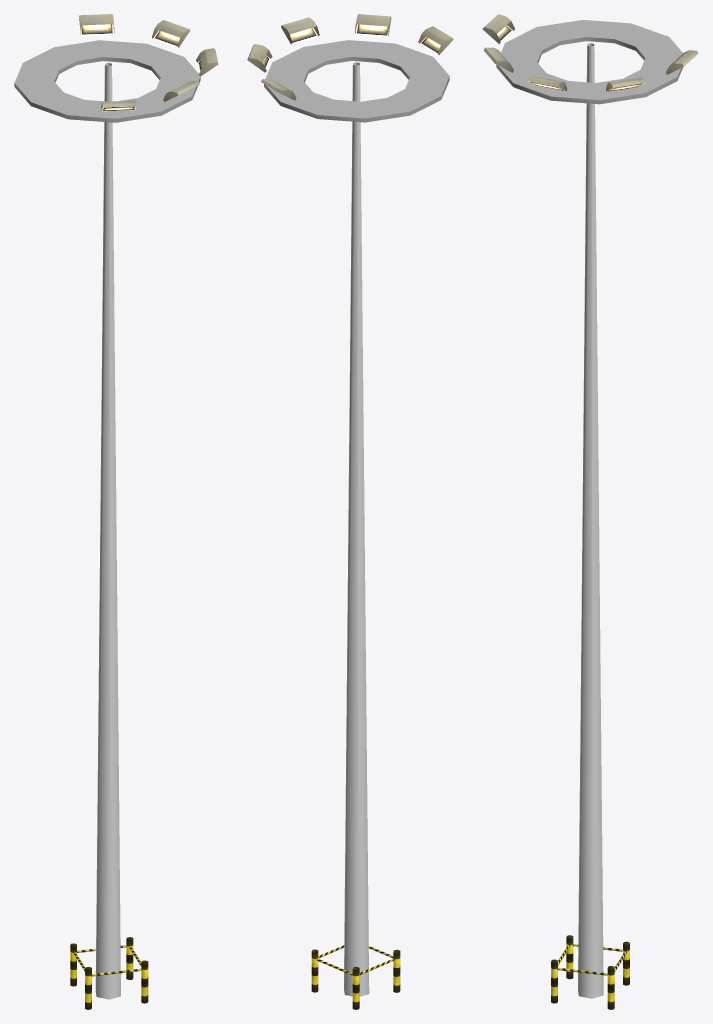
File: lightpole.gltf
3 views of the same model, side by side, from view 1: azimuth 30°, elevation 25°; view 2: azimuth 150°, elevation 25°; view 3: azimuth 270°, elevation 25° (orthographic). The views are drawn at different scales.
Visible parts, largest first — view 1: pole, top, lightandbottom; view 2: pole, top, lightandbottom; view 3: pole, top, lightandbottom.
Part boxes in pixels (left/top/right/bottom): pole: left=95, top=63, right=120, bottom=999; top: left=14, top=40, right=200, bottom=122; lightandbottom: left=70, top=14, right=218, bottom=1009; pole: left=344, top=62, right=369, bottom=996; top: left=264, top=40, right=449, bottom=122; lightandbottom: left=247, top=14, right=453, bottom=1009; pole: left=578, top=43, right=603, bottom=998; top: left=496, top=20, right=683, bottom=104; lightandbottom: left=482, top=14, right=698, bottom=1009.
Size of the model in its own units: 4.52 by 23.18 by 4.76.
Materials: 3 (1 with a texture image).
